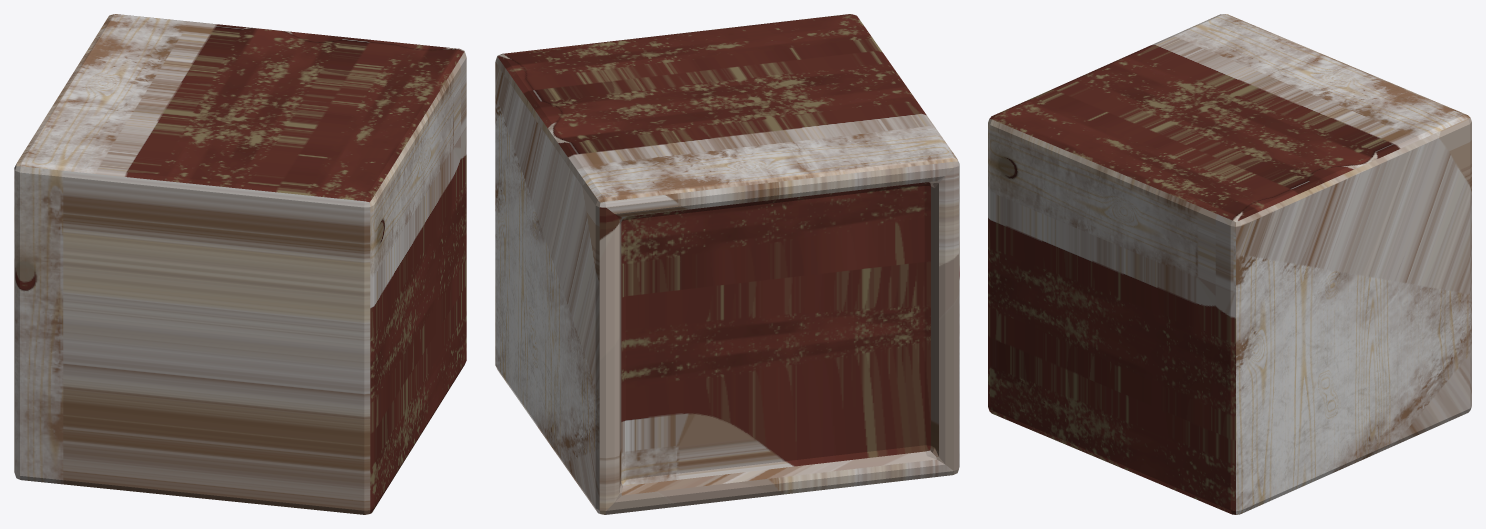
3 renders of one model, left to right at view 1: azimuth 30°, elevation 25°; view 2: azimuth 150°, elevation 25°; view 3: azimuth 270°, elevation 25°, orthographic. The views are drawn at different scales.
Visible parts, largest first — view 1: télés.003; view 2: télés.003; view 3: télés.003.
Boxes of the visible parts, x1=… form: télés.003: x1=14, y1=14, x2=466, y2=514; télés.003: x1=495, y1=14, x2=959, y2=514; télés.003: x1=988, y1=14, x2=1471, y2=514.
Size of the model in its own units: 91.03 by 60.5 by 88.96.
